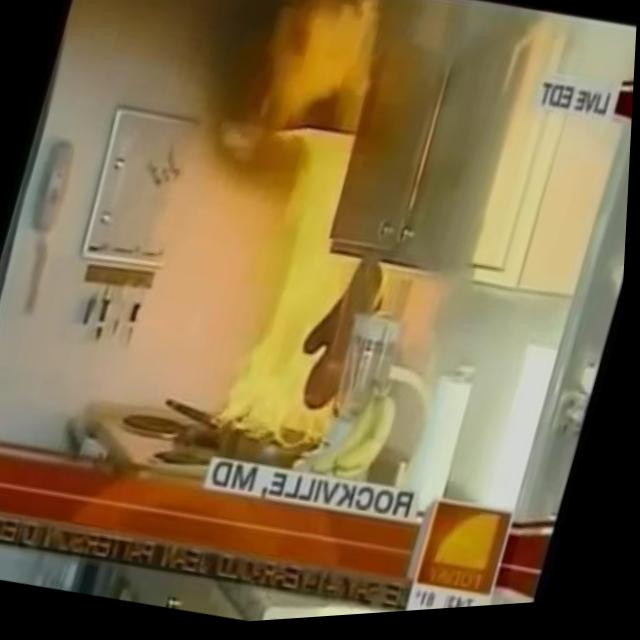fire: (171, 0, 466, 470)
